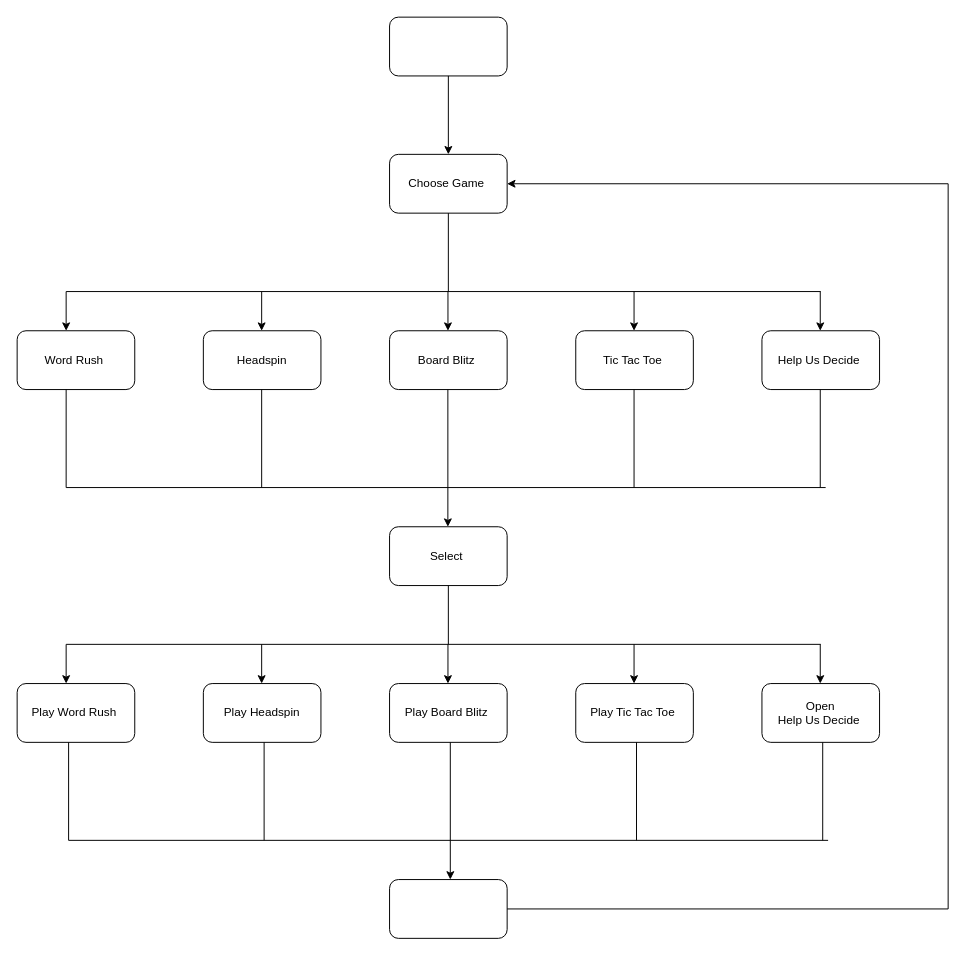
This 973x956 diagram has some shape labels left out. Here are the shapes that lost their labels. From the top down, the centre of each, then its label:
At point 448,46: "Start".
At point 448,908: "Finish".
